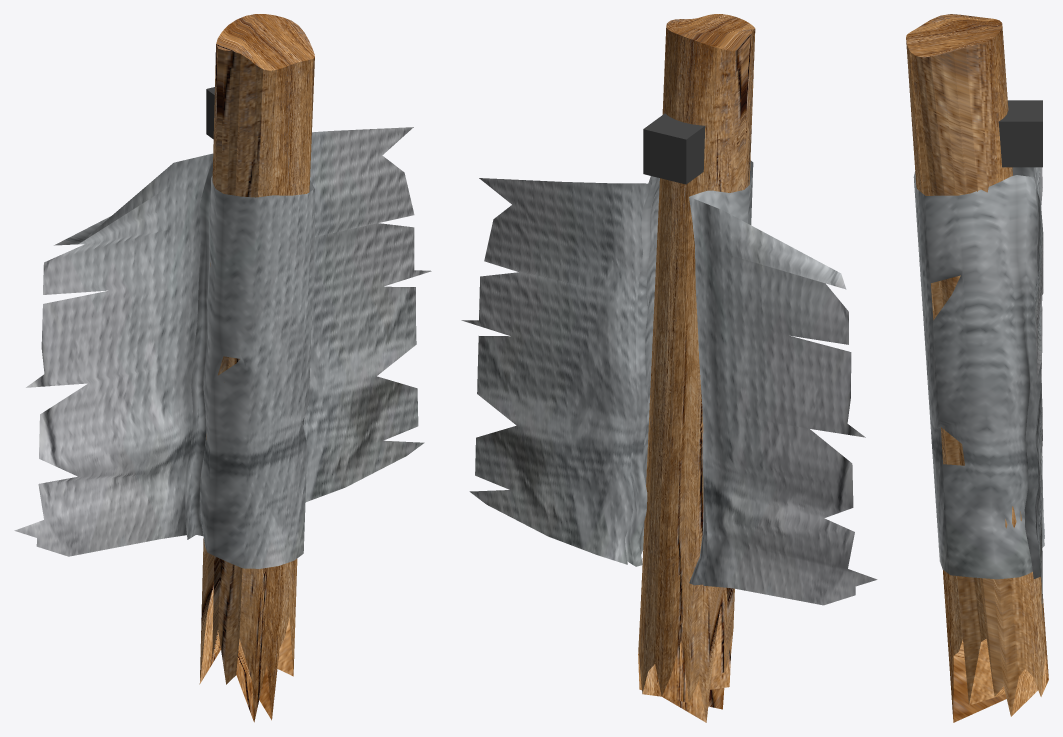
File: torch.fbx
The picture shows the model from 3 angles, left to right: view 1: azimuth 30°, elevation 25°; view 2: azimuth 150°, elevation 25°; view 3: azimuth 270°, elevation 25°; orthographic projection.
Parts seen in each view (by area): view 1: Plane.001, Cylinder; view 2: Plane.001, Cylinder, Cube; view 3: Plane.001, Cylinder, Cube.
Boxes of the visible parts, bbox=[...] form: Plane.001: bbox=[14, 127, 431, 568]; Cylinder: bbox=[199, 14, 314, 722]; Plane.001: bbox=[461, 160, 877, 605]; Cylinder: bbox=[638, 14, 755, 722]; Cube: bbox=[643, 113, 705, 184]; Plane.001: bbox=[913, 167, 1044, 619]; Cylinder: bbox=[906, 14, 1048, 722]; Cube: bbox=[998, 100, 1042, 167].
Size of the model in its own units: 234 by 368 by 68.42.
